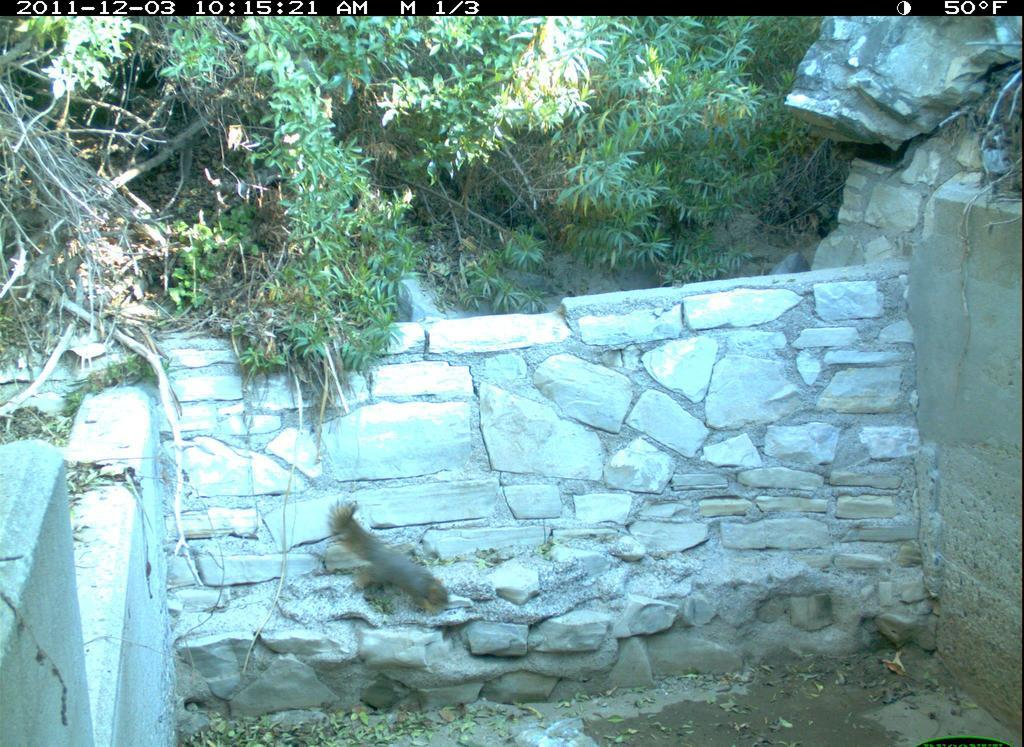squirrel: (312, 493, 469, 628)
